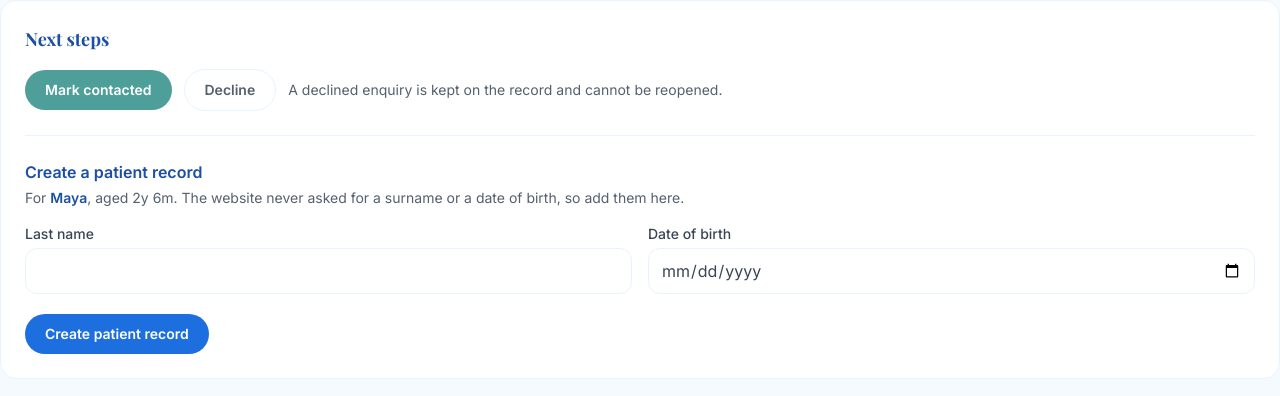
Test: EnquiryActions while a transition is in flight › locks the other moves while one is being written
What coordinates should you click on to do the following:
click the button "Mark contacted"
I would click on:
 (98, 90)
Its box is [25,70,172,110].
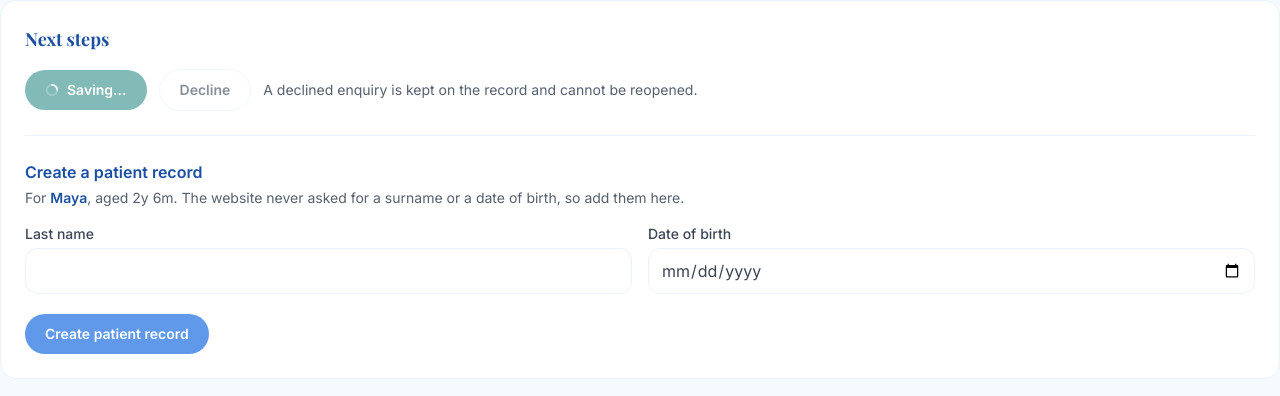
What coordinates should you click on to do the following:
click the button "Decline"
I would click on:
 (205, 90)
Its box is [158,69,251,111].
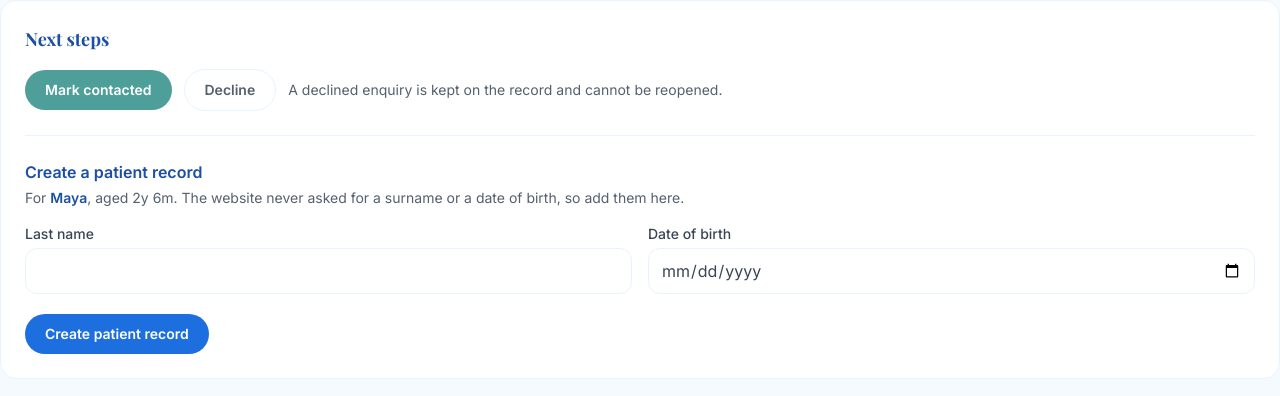
Now the button "Mark contacted" is enabled, box [25,70,172,110]
